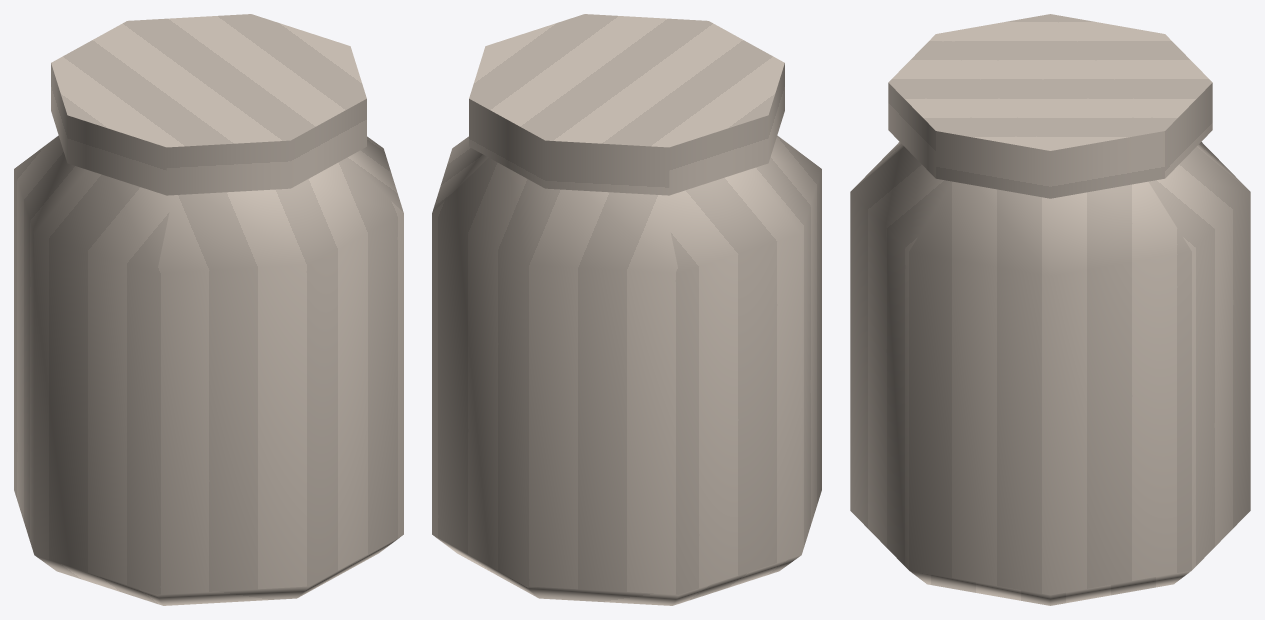
The model's file is Des_Jar.fbx.
3 views of the same model, side by side, from view 1: azimuth 30°, elevation 25°; view 2: azimuth 150°, elevation 25°; view 3: azimuth 270°, elevation 25° (orthographic).
Parts seen in each view (by area): view 1: pCylinder17; view 2: pCylinder17; view 3: pCylinder17.
Part boxes in pixels (bbox=[...]): pCylinder17: bbox=[14, 14, 403, 605]; pCylinder17: bbox=[432, 14, 821, 605]; pCylinder17: bbox=[850, 14, 1250, 605].
Size of the model in its own units: 0.1469 by 0.1822 by 0.1469.
